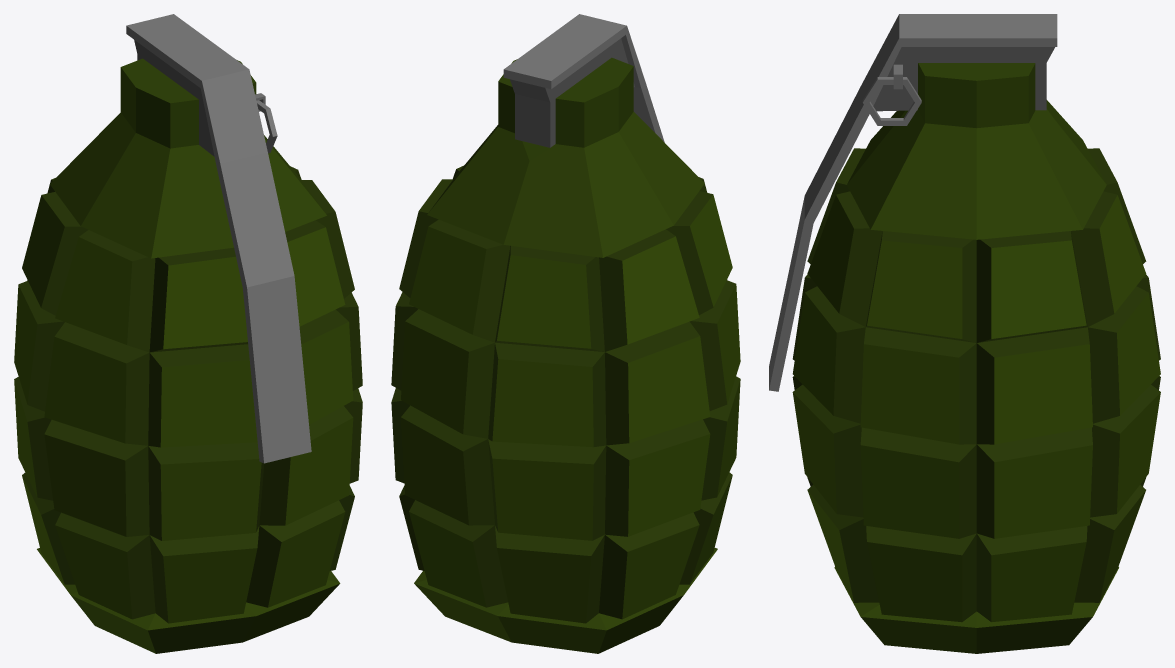
Rendered from grenade.fbx.
The picture shows the model from 3 angles, left to right: view 1: azimuth 30°, elevation 25°; view 2: azimuth 150°, elevation 25°; view 3: azimuth 270°, elevation 25°; orthographic projection. The views are drawn at different scales.
Visible parts, largest first — view 1: grenade; view 2: grenade; view 3: grenade.
Part boxes in pixels (x1,y1,x2,y2): grenade: (14, 14, 362, 653); grenade: (391, 14, 740, 653); grenade: (769, 14, 1160, 653).
Bounding box in the file's own units: 0.0725 × 0.1261 × 0.0772.
